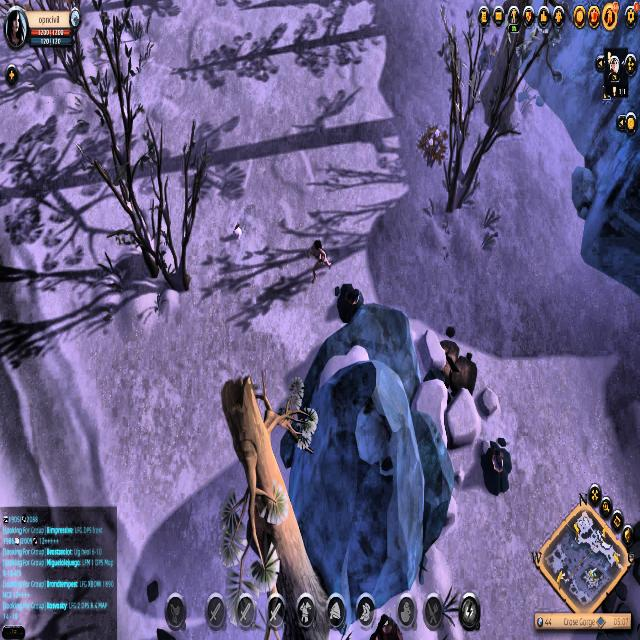copper_ore: (476, 430, 514, 501), (333, 262, 367, 332), (478, 32, 501, 77)
cotton: (416, 120, 448, 172)
